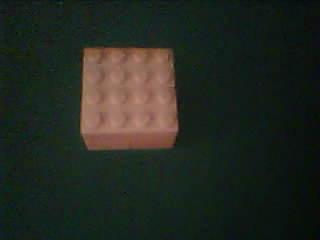lego: (80, 45, 179, 149)
